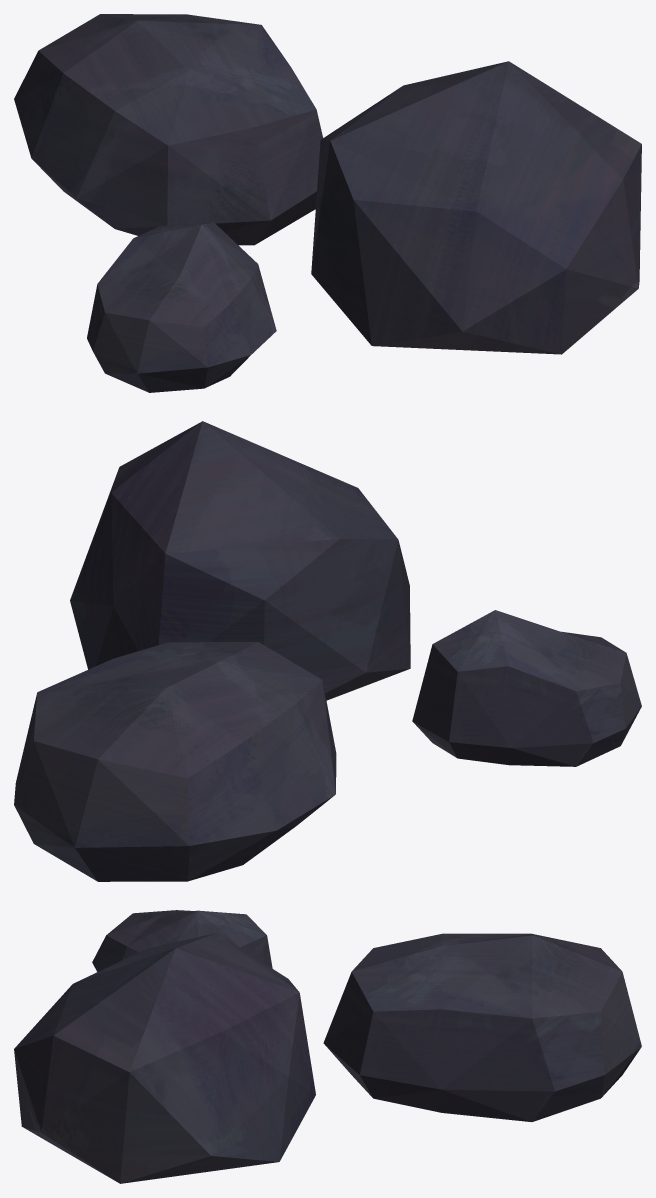
File: Rock05.fbx
The picture shows the model from 3 angles, top to bottom: view 1: azimuth 30°, elevation 25°; view 2: azimuth 150°, elevation 25°; view 3: azimuth 270°, elevation 25°; orthographic projection. The views are drawn at different scales.
Parts seen in each view (by area): view 1: Rock05; view 2: Rock05; view 3: Rock05.
Part boxes in pixels (x1,y1,x2,y2): Rock05: (14,14,641,392); Rock05: (14,421,641,881); Rock05: (14,910,641,1183).
Bounding box in the file's own units: 0.9861 × 0.3999 × 1.18.
Materials: 1 (1 with a texture image).
